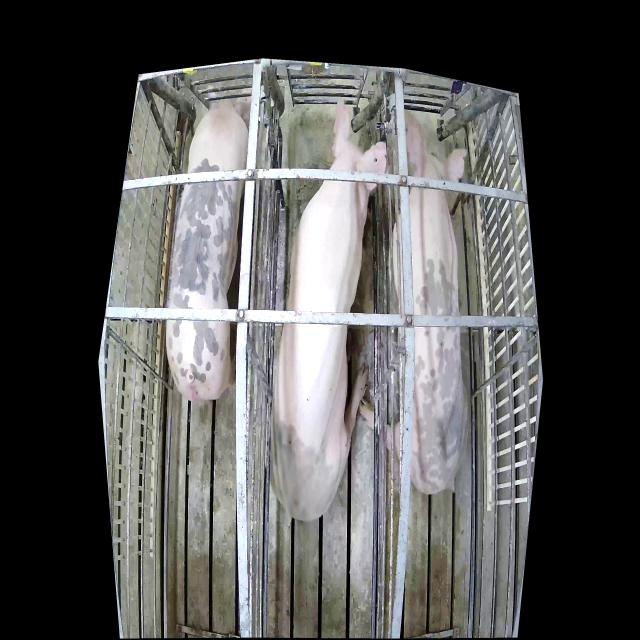pig: (270, 104, 388, 512), (360, 110, 469, 495), (166, 94, 250, 415)
